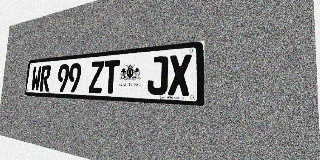9: (68, 63, 82, 92), (57, 63, 70, 92)
J: (147, 56, 168, 95)
R: (39, 65, 51, 91)
T: (103, 59, 120, 94)
W: (31, 66, 42, 91)
X: (168, 54, 192, 96)
Z: (89, 61, 104, 93)
